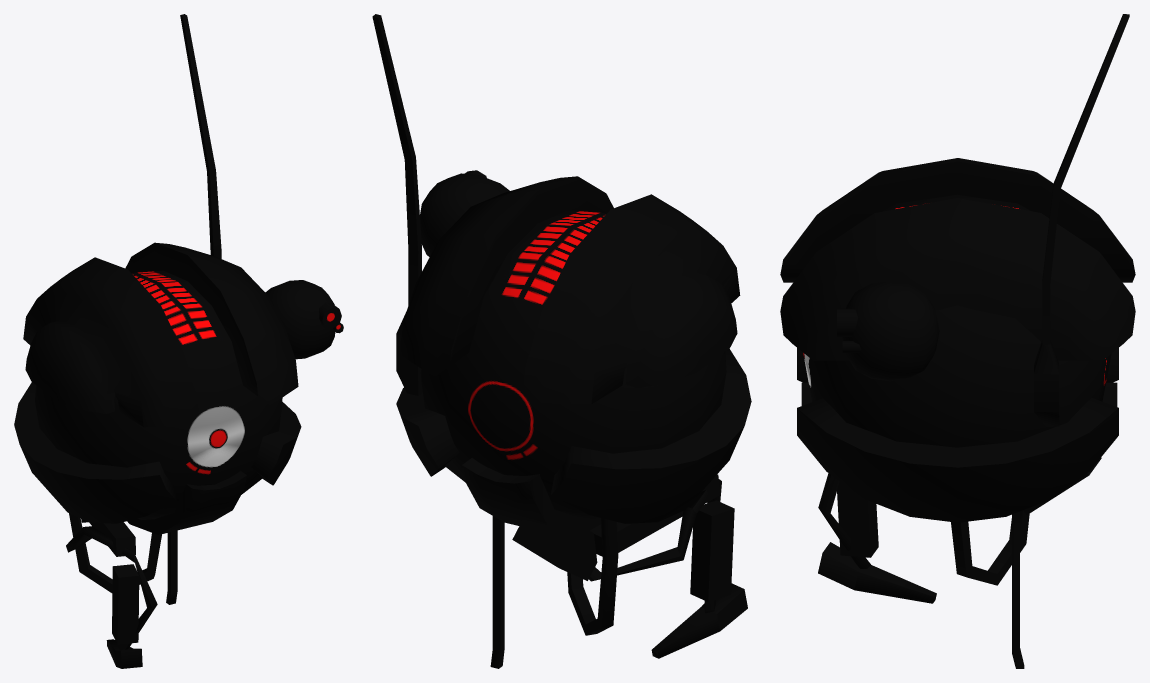
The model's file is Drone_basic.fbx.
3 views of the same model, side by side, from view 1: azimuth 30°, elevation 25°; view 2: azimuth 150°, elevation 25°; view 3: azimuth 270°, elevation 25° (orthographic). The views are drawn at different scales.
Parts seen in each view (by area): view 1: Drone_basic:Layer1, Drone_basic:Layer2, Drone_basic:Layer4, Drone_basic:Layer5, Drone_basic:Layer3; view 2: Drone_basic:Layer1, Drone_basic:Layer2, Drone_basic:Layer5, Drone_basic:Layer4, Drone_basic:Layer3; view 3: Drone_basic:Layer1, Drone_basic:Layer2, Drone_basic:Layer4, Drone_basic:Layer5, Drone_basic:Layer3.
Boxes of the visible parts, <box> form: Drone_basic:Layer1: <box>14,242,301,534</box>; Drone_basic:Layer2: <box>35,270,282,519</box>; Drone_basic:Layer4: <box>180,14,343,359</box>; Drone_basic:Layer5: <box>66,518,157,668</box>; Drone_basic:Layer3: <box>69,513,177,604</box>; Drone_basic:Layer1: <box>396,176,751,530</box>; Drone_basic:Layer2: <box>421,210,726,518</box>; Drone_basic:Layer5: <box>512,474,747,658</box>; Drone_basic:Layer4: <box>372,14,509,395</box>; Drone_basic:Layer3: <box>490,516,618,668</box>; Drone_basic:Layer1: <box>780,158,1135,522</box>; Drone_basic:Layer2: <box>803,194,1111,447</box>; Drone_basic:Layer4: <box>837,14,1129,426</box>; Drone_basic:Layer5: <box>818,457,1101,603</box>; Drone_basic:Layer3: <box>951,510,1029,668</box>.
Size of the model in its own units: 247 by 475 by 223.
1 material, 1 textured.
